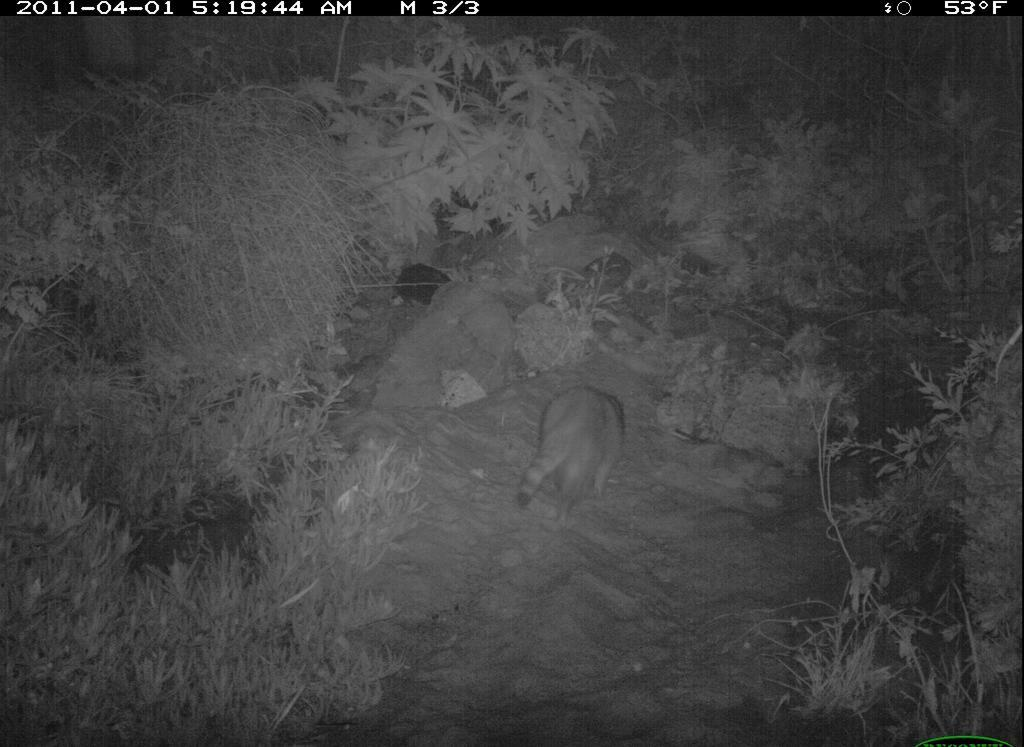raccoon: (514, 381, 637, 524)
